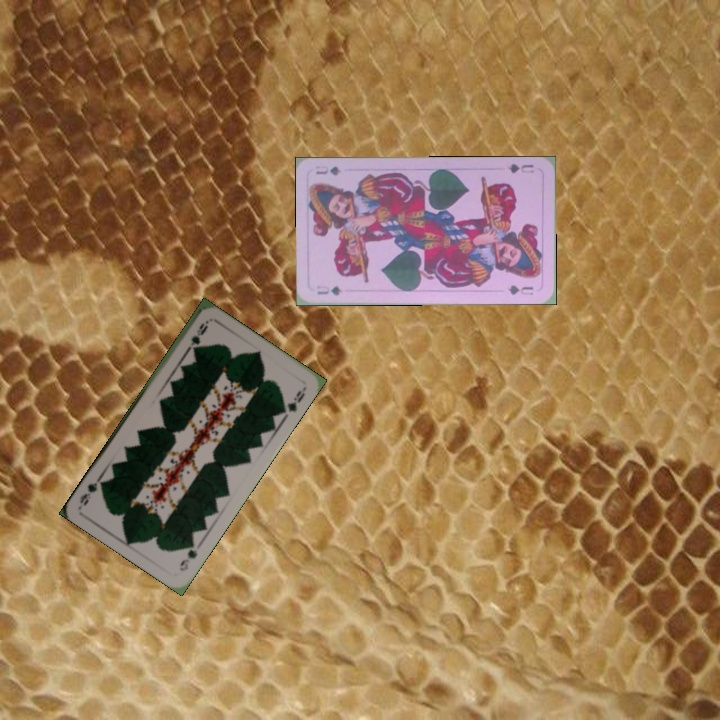G9: (183, 317, 211, 354), (175, 537, 200, 574)
GU: (503, 159, 536, 176), (313, 282, 345, 298)
